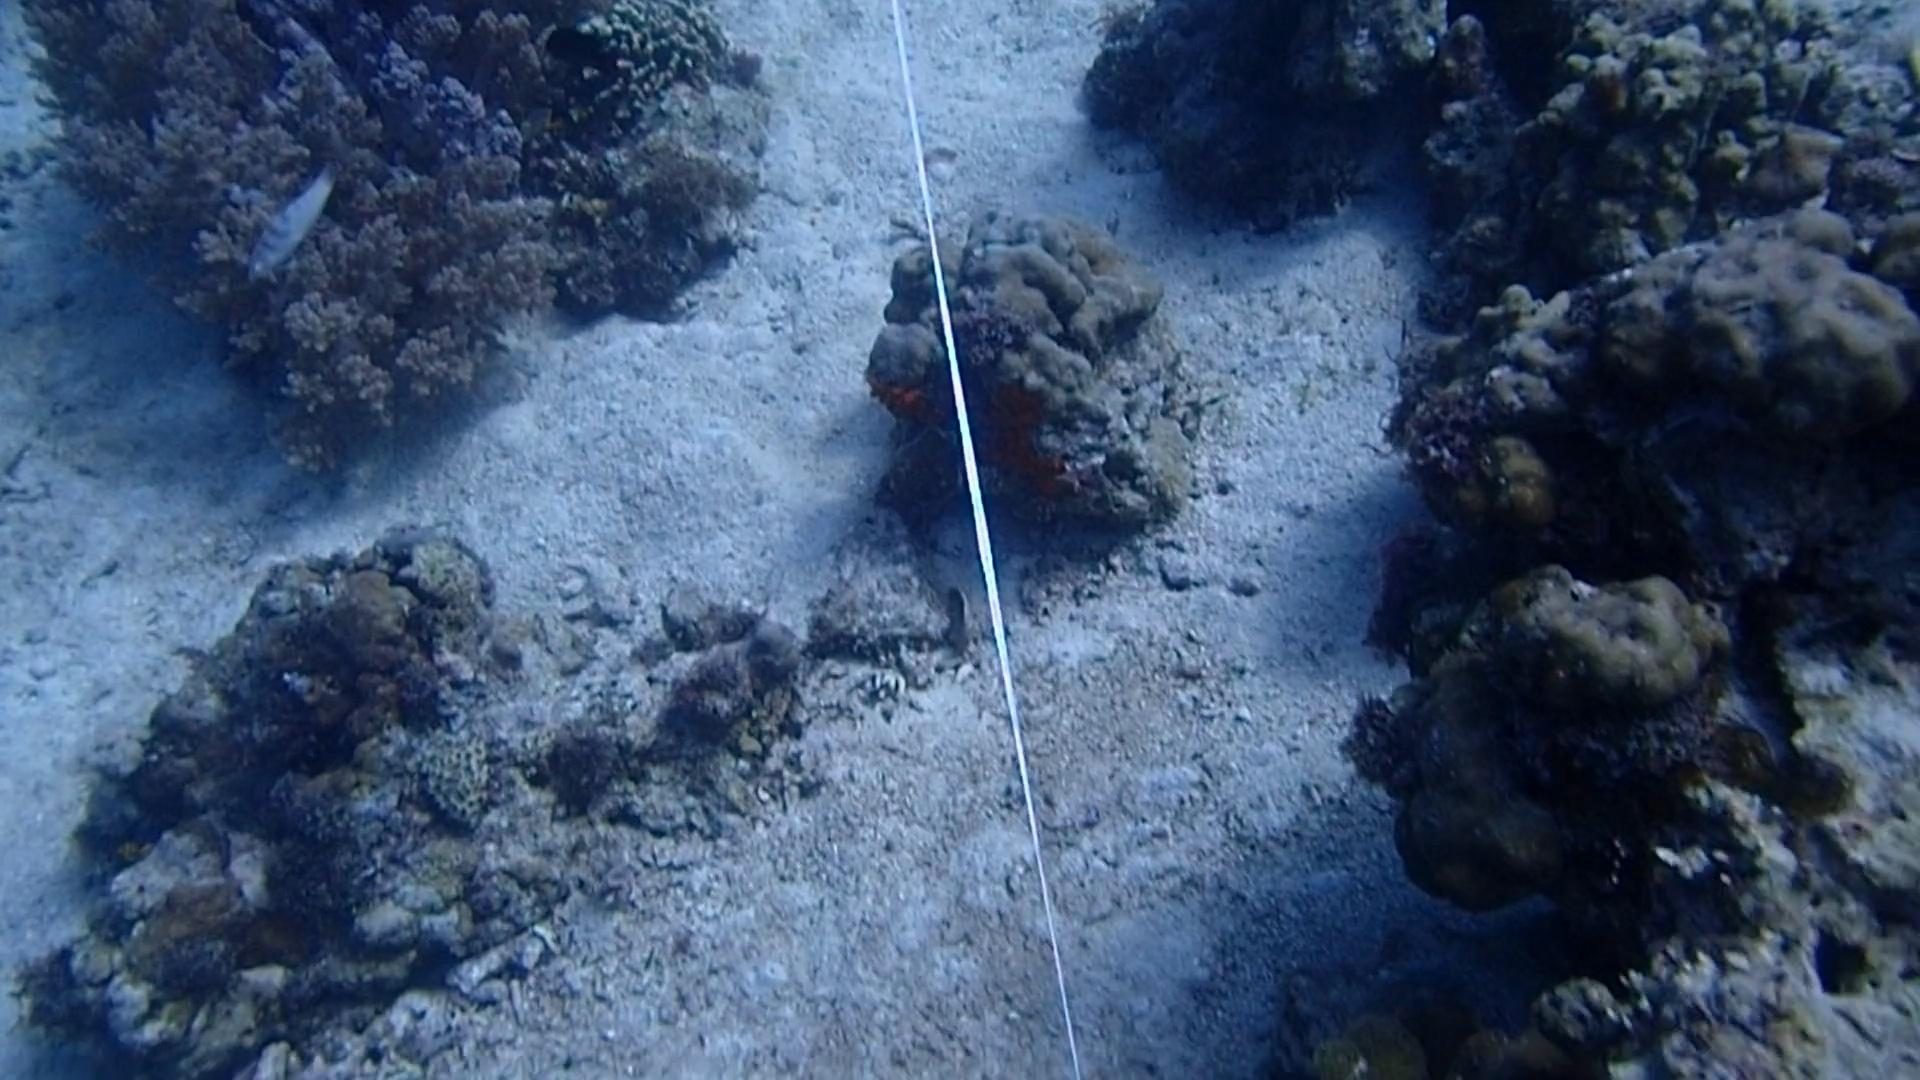Dark Fish: (534, 20, 625, 87)
Light Fish w Back Stripes: (239, 175, 351, 281)
